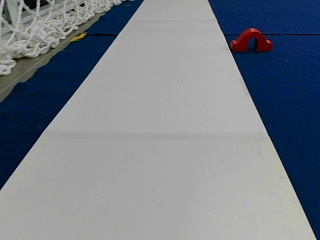bridge: (231, 28, 272, 50)
